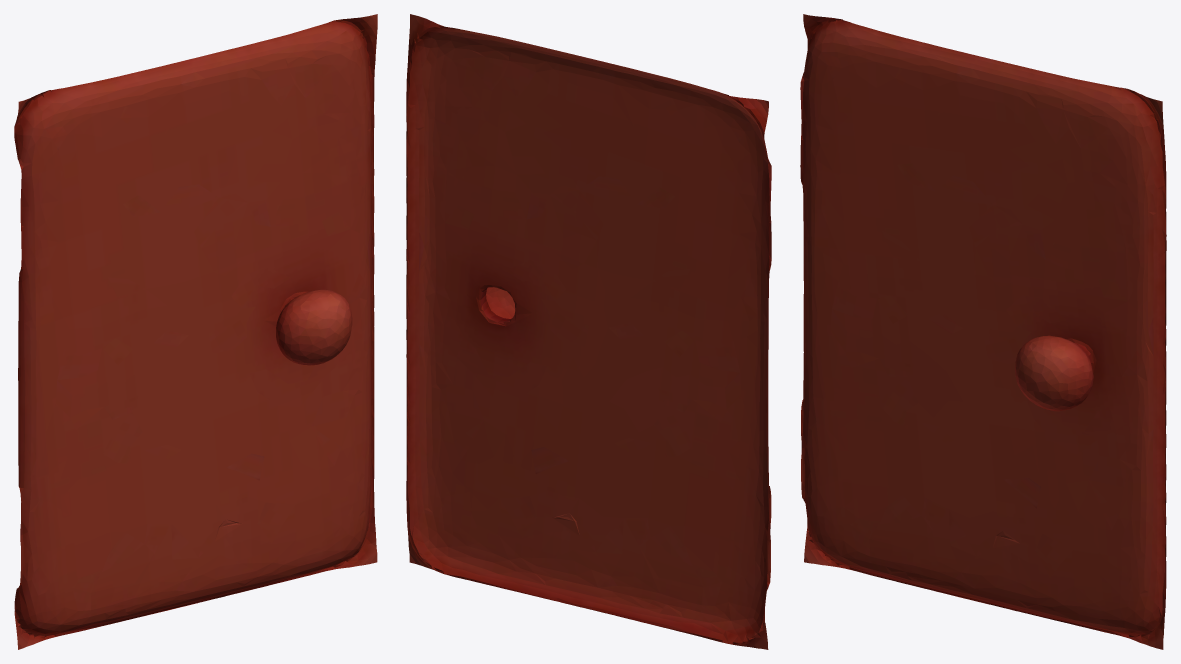
Rendered from door.glb.
3 renders of one model, left to right at view 1: azimuth 30°, elevation 25°; view 2: azimuth 150°, elevation 25°; view 3: azimuth 330°, elevation 25°, orthographic.
Visible parts, largest first — view 1: source_surface_0; view 2: source_surface_0; view 3: source_surface_0.
Part boxes in pixels (x1=…): source_surface_0: x1=14, y1=14, x2=377, y2=649; source_surface_0: x1=406, y1=14, x2=771, y2=649; source_surface_0: x1=800, y1=14, x2=1166, y2=649.
Size of the model in its own units: 0.1632 by 0.2383 by 0.0337.
1 material, 1 textured.
